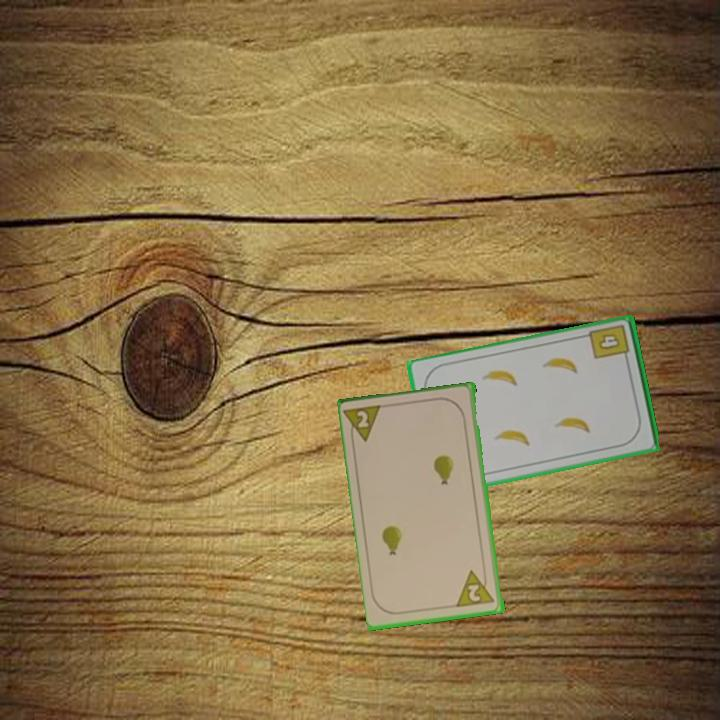2p: (342, 401, 387, 447), (454, 566, 498, 610)
4b: (586, 321, 633, 365)
